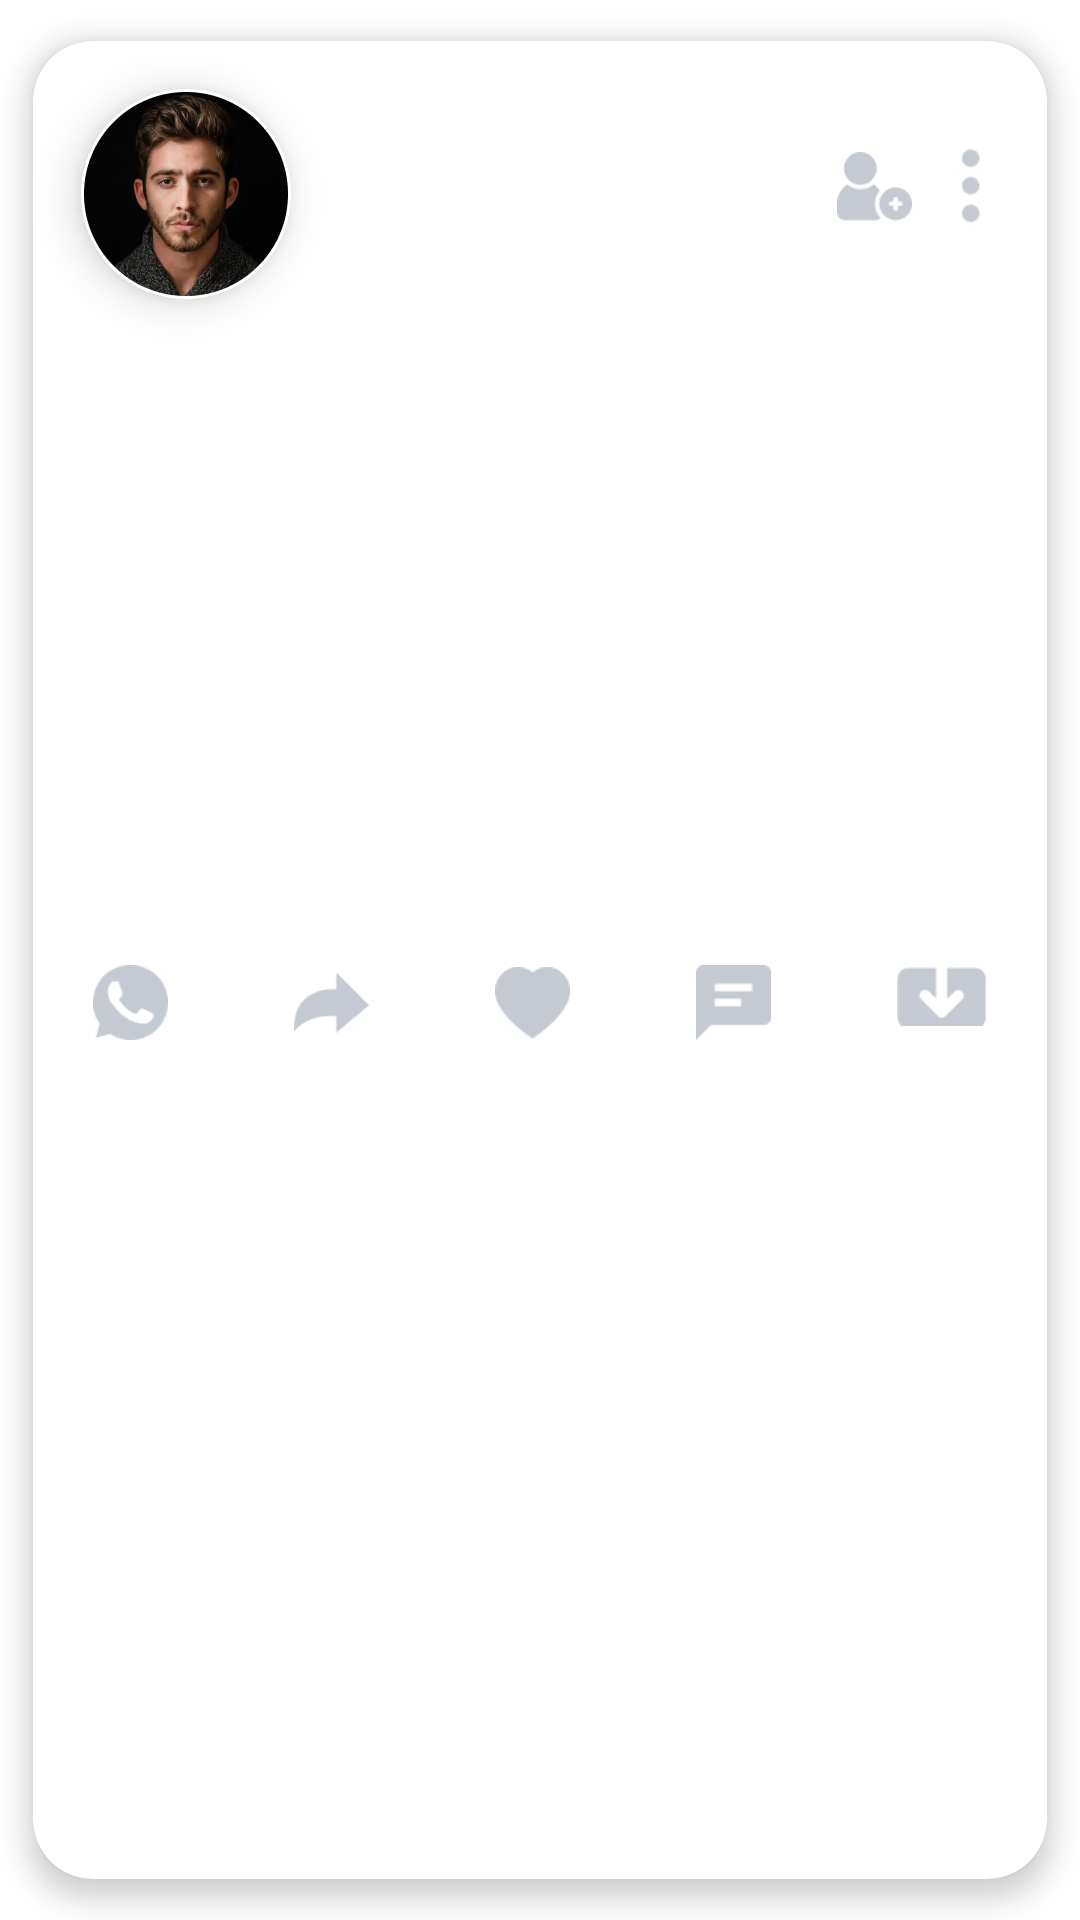

Named icons in this screenshot (1080w x 1920h) and their centers, point (x, y):
add user: point (874, 186)
download: point (941, 997)
like: point (532, 1002)
message: point (733, 1002)
option: point (971, 185)
share: point (331, 1002)
user: point (184, 195)
